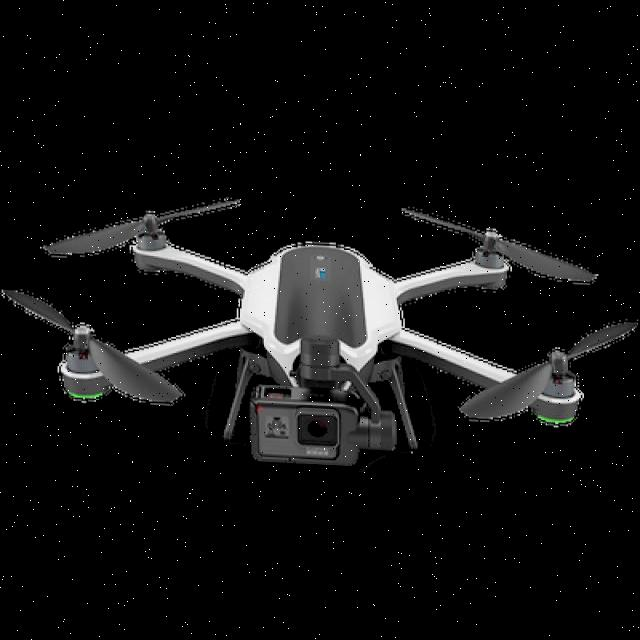drone: (22, 175, 638, 457)
